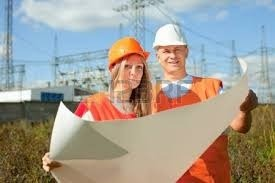helmet: (107, 36, 154, 72), (152, 23, 192, 52)
person with full safety: (86, 36, 155, 112)
person with partial safety: (151, 21, 221, 97)
safety vest: (149, 76, 230, 179), (80, 88, 139, 123)
